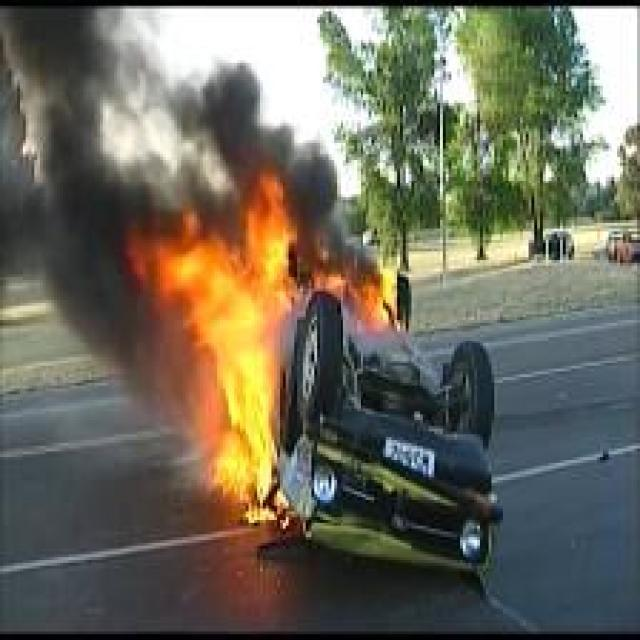Fire: (132, 170, 306, 527), (311, 263, 406, 326)
